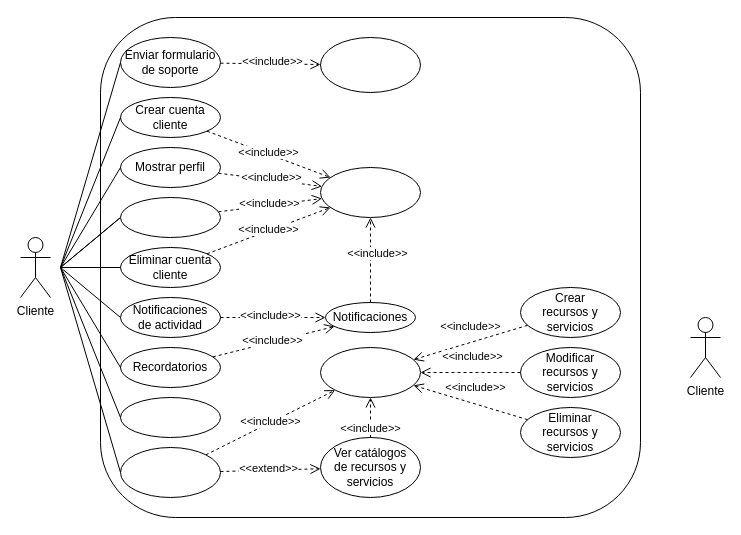
Some shapes in this 741 by 535 pixel diagram are drawn without their labels. The shapes that lost their labels are listed below. From the top down, each one's centre as x and y in pixels, then its label:
At pixel 370 64: "Registro de solicitudes y reportes".
At pixel 370 192: "Identidad y Autenticación".
At pixel 170 217: "Modificar datos".
At pixel 370 372: "Recursos y servicios".
At pixel 170 417: "(Des)activar notificaciones".
At pixel 170 472: "Buscar recursos y servicios".
